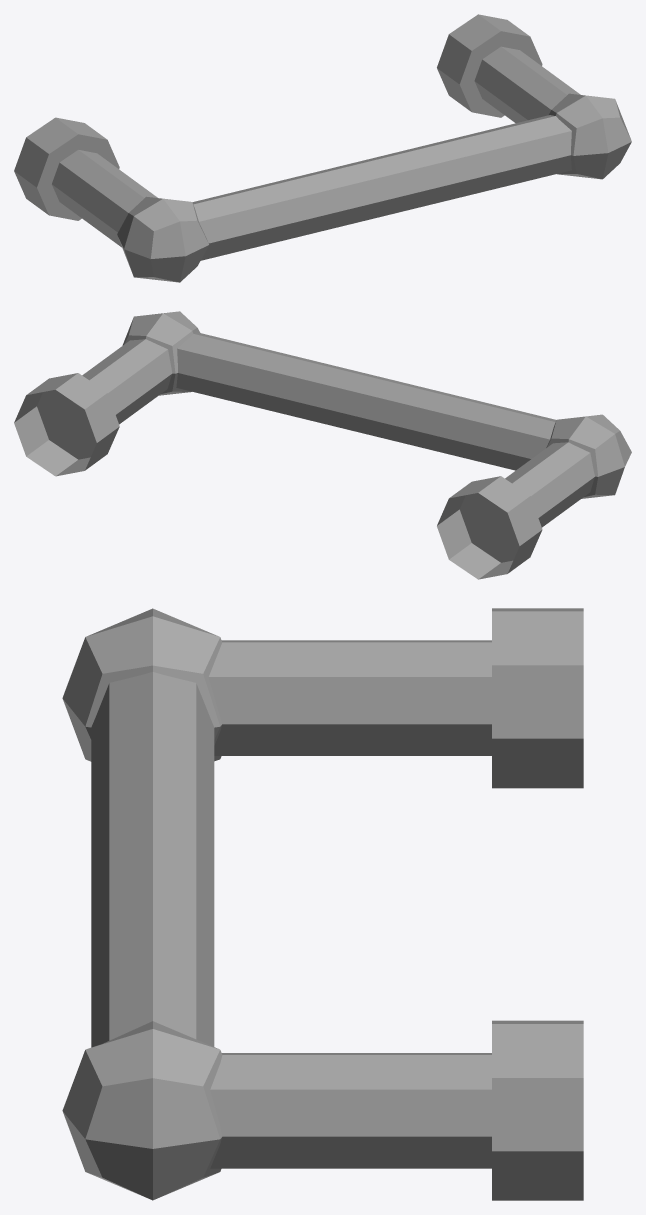
Rendered from Hanger_1.fbx.
The picture shows the model from 3 angles, top to bottom: view 1: azimuth 30°, elevation 25°; view 2: azimuth 150°, elevation 25°; view 3: azimuth 270°, elevation 25°; orthographic projection. The views are drawn at different scales.
Parts seen in each view (by area): view 1: Hanger_1; view 2: Hanger_1; view 3: Hanger_1.
Part boxes in pixels (bbox=[...]): Hanger_1: bbox=[14, 14, 631, 282]; Hanger_1: bbox=[14, 311, 631, 579]; Hanger_1: bbox=[62, 608, 583, 1200].
Bounding box in the file's own units: 51.78 × 23.11 × 8.49.
